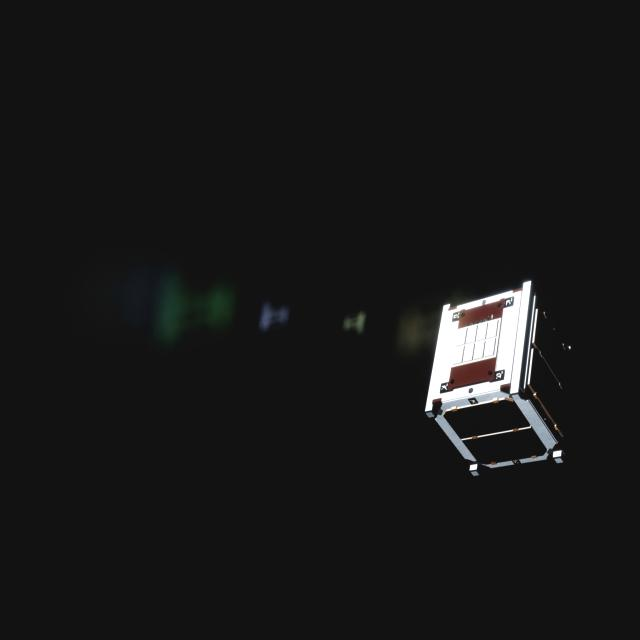satellite: (423, 278, 580, 475)
